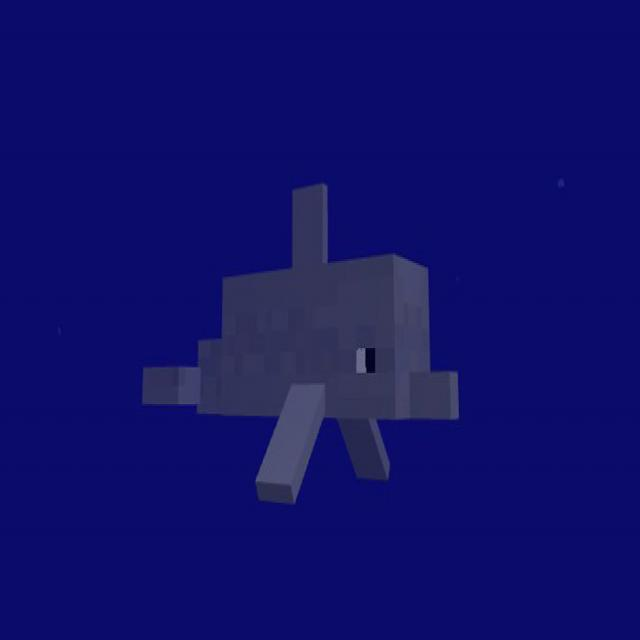Dolphin: (136, 172, 470, 520)
